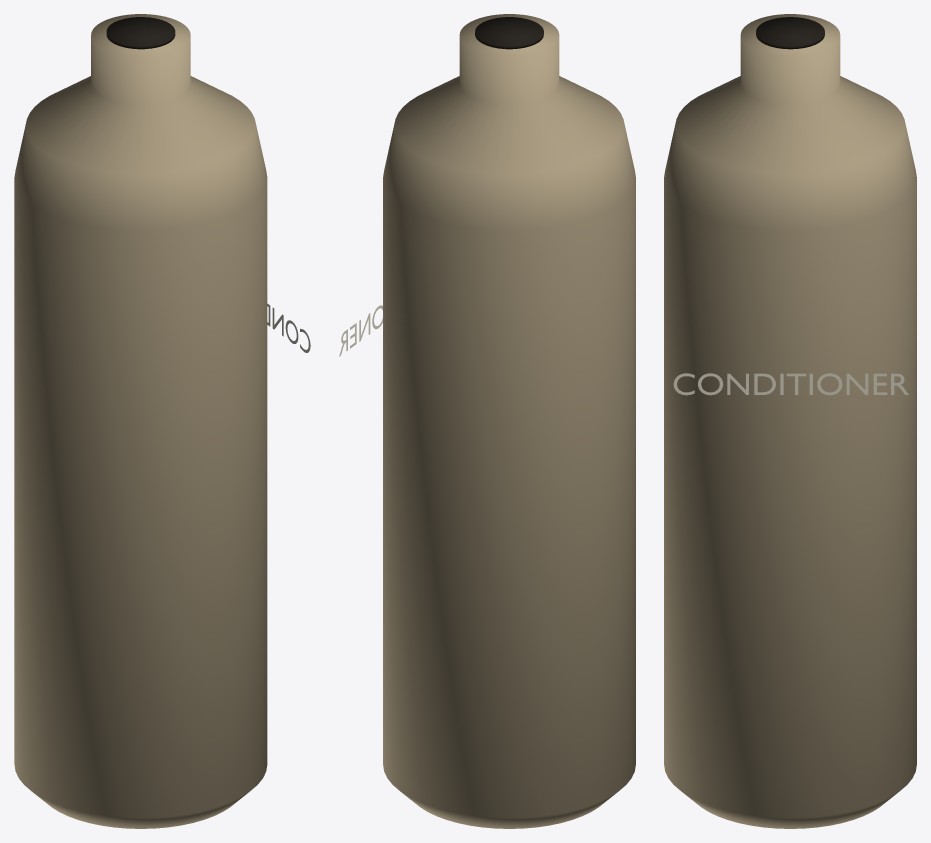
Rendered from conditioner.glb.
The picture shows the model from 3 angles, left to right: view 1: azimuth 30°, elevation 25°; view 2: azimuth 150°, elevation 25°; view 3: azimuth 270°, elevation 25°; orthographic projection.
Parts seen in each view (by area): view 1: conditioner_body, conditioner_mouth; view 2: conditioner_body, conditioner_mouth; view 3: conditioner_body, conditioner_label, conditioner_mouth.
Part boxes in pixels (<box>): conditioner_body: <box>14,14,267,828</box>; conditioner_mouth: <box>106,17,175,49</box>; conditioner_body: <box>383,14,635,828</box>; conditioner_mouth: <box>475,17,543,49</box>; conditioner_body: <box>664,14,916,828</box>; conditioner_label: <box>673,373,908,395</box>; conditioner_mouth: <box>756,17,824,49</box>.
Bounding box in the file's own units: 0.0665 × 0.217 × 0.066.
